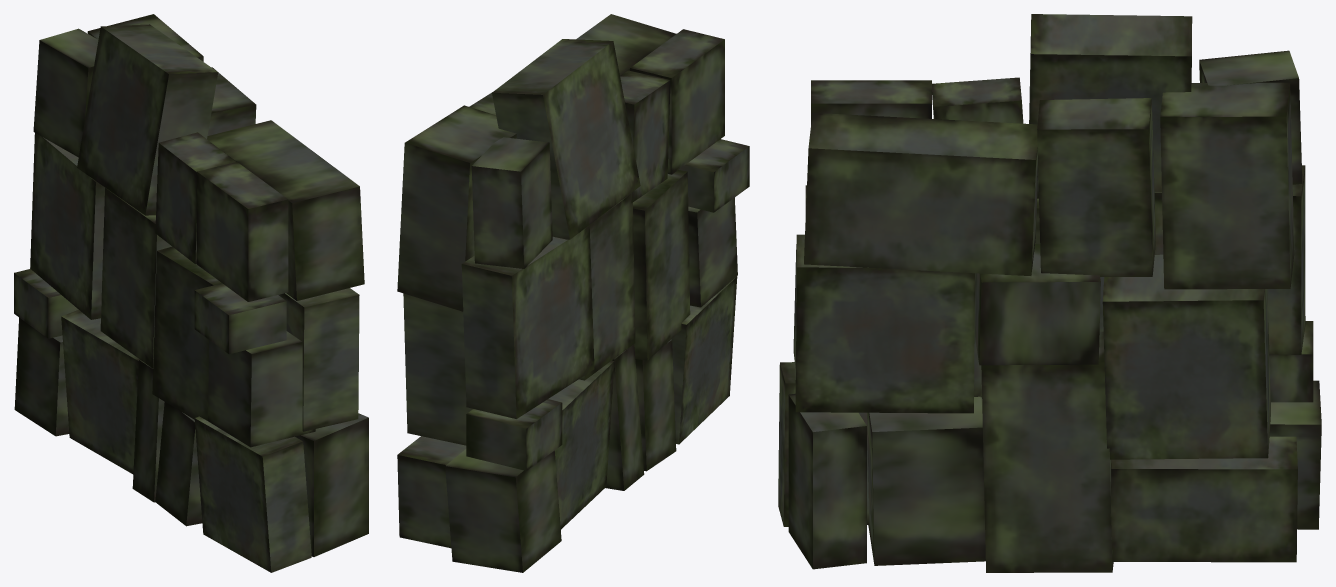
The model's file is ruin-wall-02.fbx.
3 views of the same model, side by side, from view 1: azimuth 30°, elevation 25°; view 2: azimuth 150°, elevation 25°; view 3: azimuth 270°, elevation 25° (orthographic). The views are drawn at different scales.
Visible parts, largest first — view 1: wall_02; view 2: wall_02; view 3: wall_02.
Part boxes in pixels (box(x1,y1,x2,y2)): wall_02: box(14, 14, 368, 572); wall_02: box(397, 14, 749, 572); wall_02: box(778, 14, 1321, 572).
Bounding box in the file's own units: 162 × 466 × 452.
